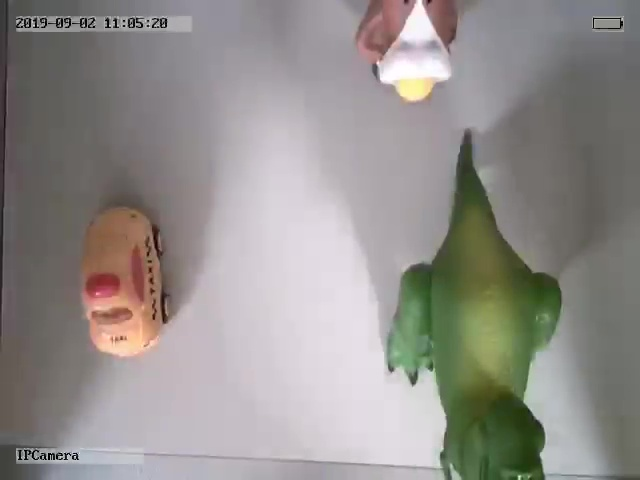car: (77, 203, 172, 356)
